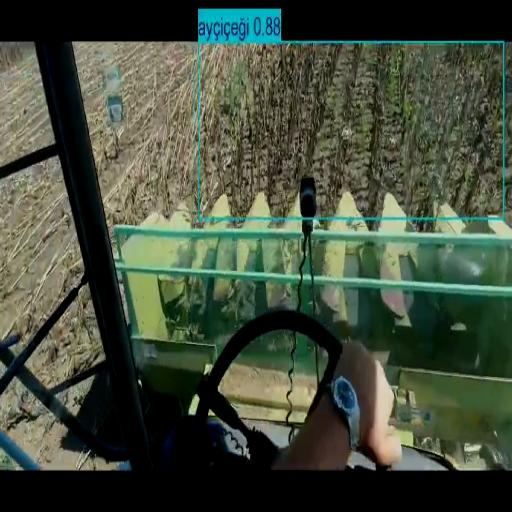ayc: (208, 46, 501, 215)
